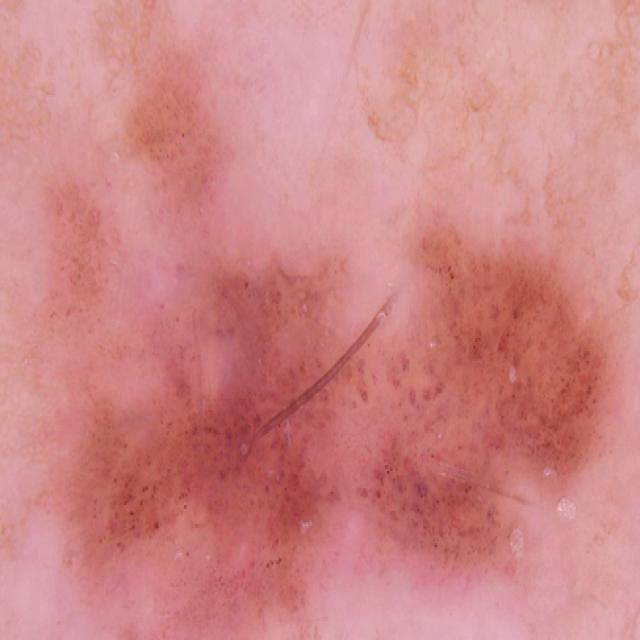Carcinoma: (64, 197, 639, 640)
